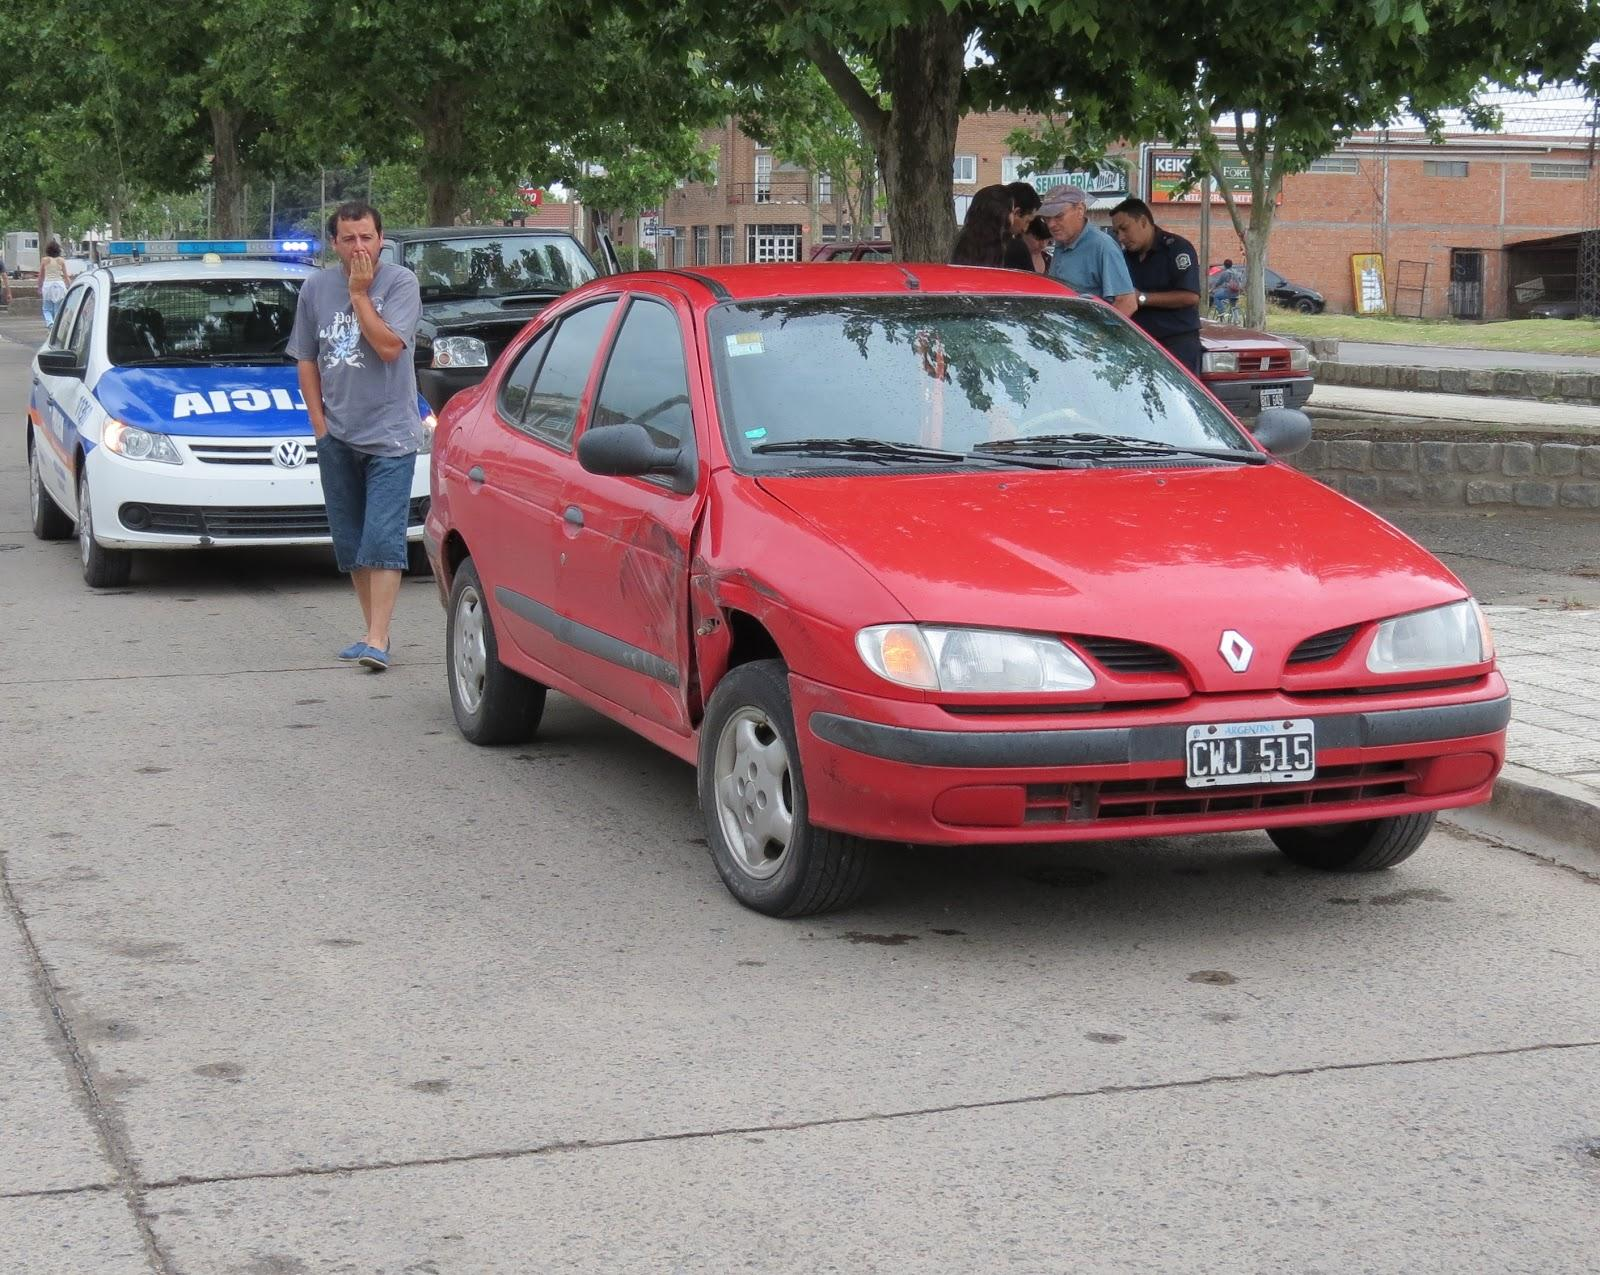matricula: (1183, 715, 1317, 791)
